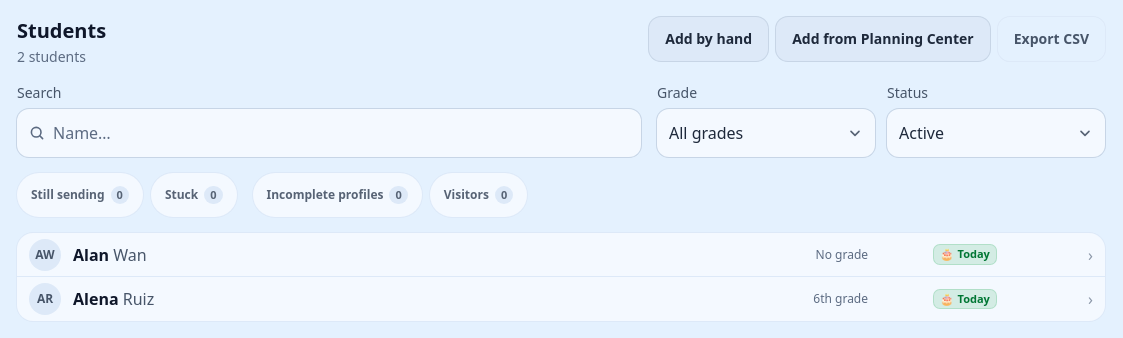
Test case: StudentsPage grade › counts and clears like every other filter on the screen
The image size is (1123, 338).
Select "No grade" in the dropdown named "All grades": [766, 133] box x1=657 y1=109 x2=875 y2=157
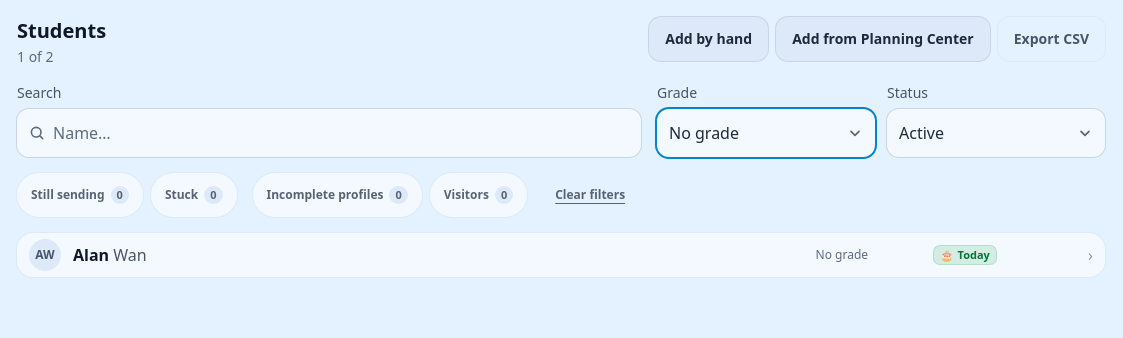
Check: the text "1 of 2" is shown, box x1=17 y1=47 x2=54 y2=66
Click the button "Clear filters": [590, 195] box x1=543 y1=173 x2=637 y2=217
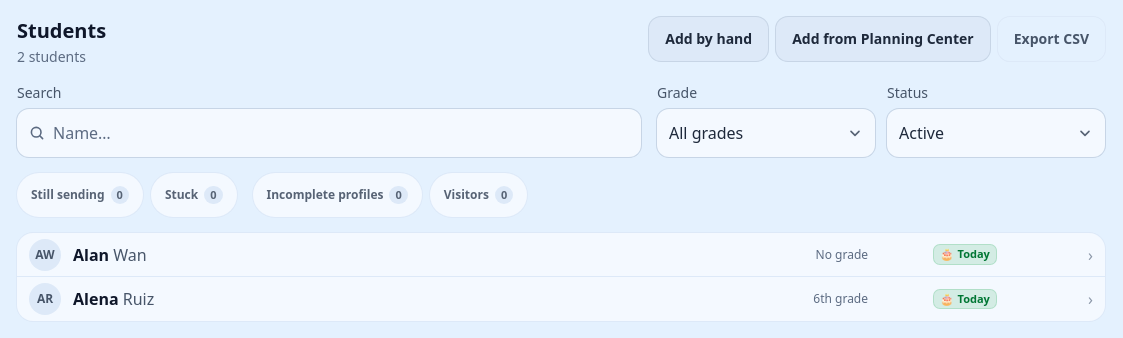
Check: the link named "Alan Wan" is shown, box x1=17 y1=233 x2=1105 y2=276
Check: the link named "Alena" is shown, box x1=17 y1=277 x2=1105 y2=321
